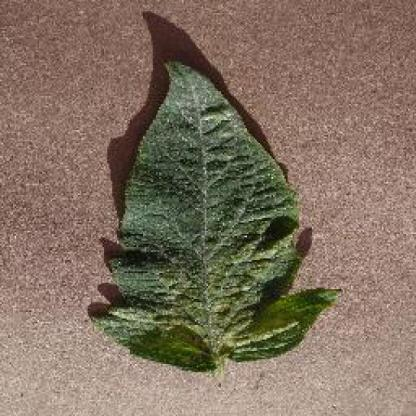Tomato_Spider_Mites: (88, 61, 340, 370)
